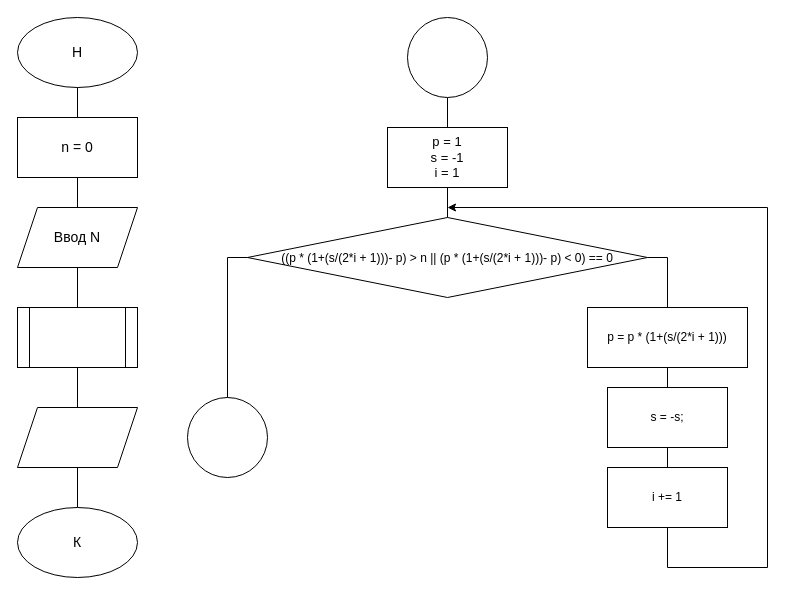
Some shapes in this 793 by 595 pixel diagram are drawn without their labels. The shapes that lost their labels are listed below. From the top down, each one's box as (x1, y1, x2, y2) in pixels, then its label:
(406, 16, 488, 98): func(n)
(16, 306, 138, 368): ans = func(n)
(16, 406, 138, 468): Вывод ans
(186, 396, 268, 478): return p;
